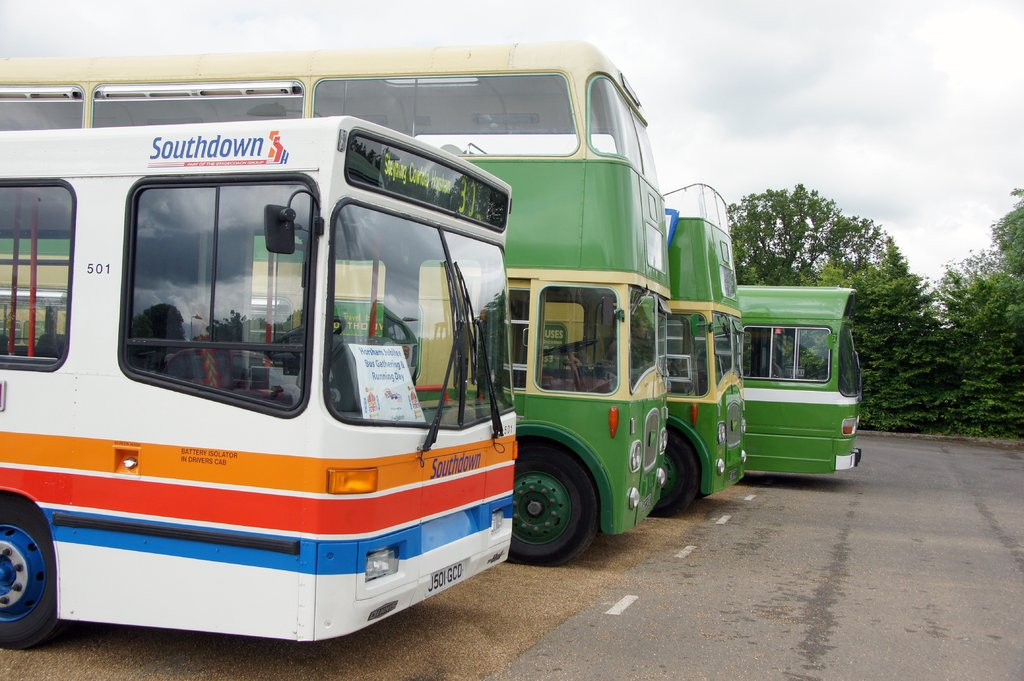Bus: (0, 40, 864, 648)
